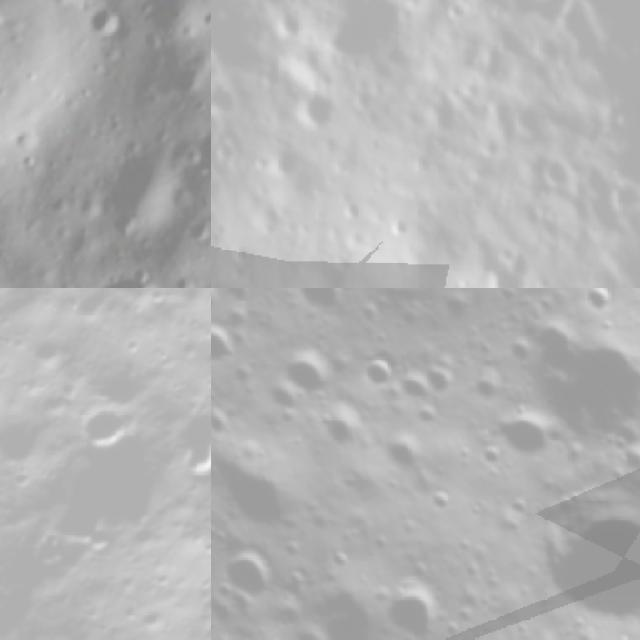crater: (493, 288, 640, 486), (510, 446, 640, 640), (0, 0, 56, 288), (80, 130, 202, 252), (211, 442, 315, 551), (211, 530, 295, 616), (299, 569, 395, 640), (487, 394, 569, 476), (307, 0, 413, 63), (374, 566, 460, 640), (154, 388, 211, 488), (74, 389, 148, 464), (276, 335, 348, 406), (463, 231, 546, 288), (285, 76, 353, 145), (54, 256, 194, 288), (279, 288, 365, 332), (319, 398, 379, 458), (175, 106, 211, 192), (25, 330, 80, 384), (256, 372, 310, 426), (380, 427, 432, 480), (76, 0, 129, 49), (358, 347, 407, 396), (80, 516, 128, 566), (417, 355, 464, 403), (211, 317, 246, 380), (420, 478, 466, 524), (462, 366, 507, 412), (499, 328, 544, 373), (30, 0, 101, 26), (578, 288, 627, 322), (133, 600, 174, 640), (439, 288, 482, 326), (472, 436, 512, 476), (188, 7, 211, 73), (613, 434, 640, 488), (396, 369, 434, 406), (409, 396, 446, 433), (502, 485, 538, 522), (218, 288, 258, 310), (145, 288, 176, 312), (122, 330, 148, 356), (10, 467, 36, 492)
